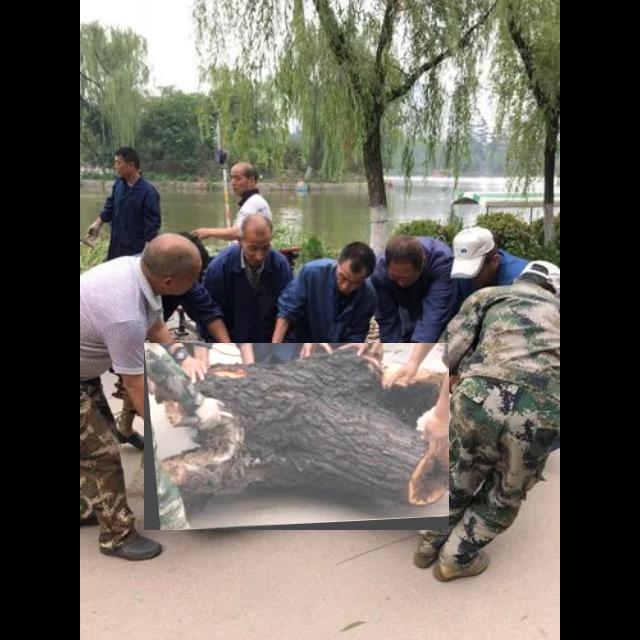fallen_tree: (144, 343, 450, 531)
